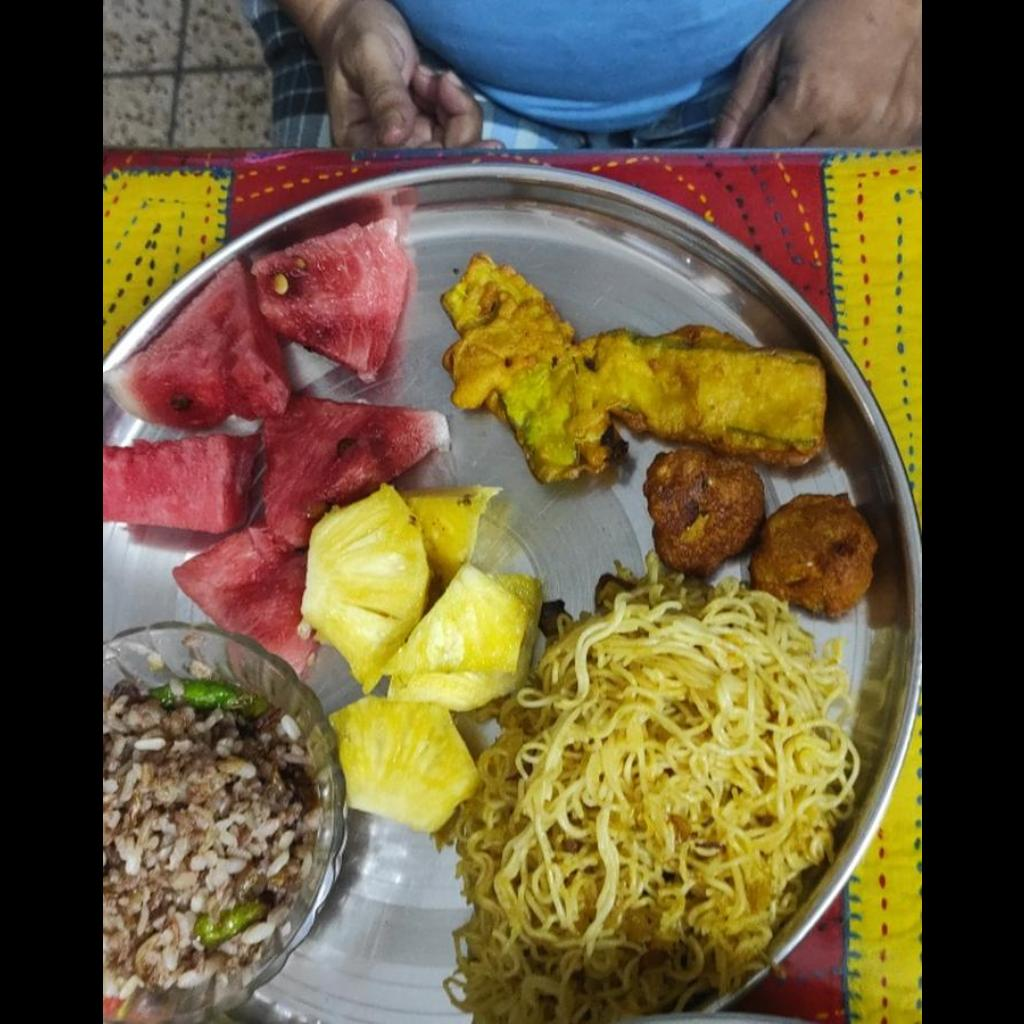beguni: (442, 250, 817, 479)
chop-alu: (641, 456, 870, 620)
noodles: (443, 577, 854, 1005)
payesh: (102, 693, 317, 991)
pineapple: (315, 492, 548, 823)
watermelon: (102, 219, 450, 674)
